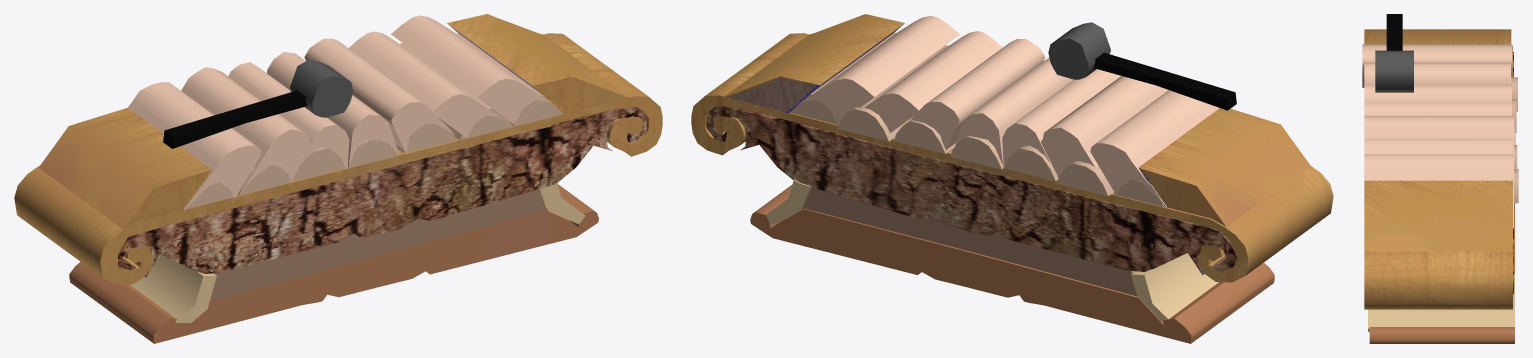
File: saron.glb
3 views of the same model, side by side, from view 1: azimuth 30°, elevation 25°; view 2: azimuth 150°, elevation 25°; view 3: azimuth 270°, elevation 25° (orthographic). The views are drawn at different scales.
Visible parts, largest first — view 1: root_Material_242_0, root_Material_260_0, root_Material_240_0, root_Material_246_0, root_Material_258_0, root_Material_244_0, root_Material_180_0 (×7), root_Material_262_0 (×2), root_Material_248_0, root_Material_264_0, root_Material_250_0, root_Material_256_0 (+5 smaller); view 2: root_Material_242_0, root_Material_260_0, root_Material_240_0, root_Material_246_0, root_Material_180_0 (×7), root_Material_258_0, root_Material_262_0 (×2), root_Material_244_0, root_Material_248_0, root_Material_264_0, root_Material_256_0, root_Material_252_0 (+5 smaller); view 3: root_Material_244_0, root_Material_240_0, root_Material_262_0 (×2), root_Material_248_0, root_Material_252_0, root_Material_122_0, root_Material_260_0, root_Material_250_0, root_Material_264_0, root_Material_256_0, root_Material_246_0, root_Material_254_0 (+2 smaller).
Boxes of the visible parts, x1,y1,x2,y2 form: root_Material_242_0: (118, 107, 646, 277); root_Material_260_0: (69, 184, 598, 343); root_Material_240_0: (14, 33, 662, 284); root_Material_246_0: (39, 108, 211, 229); root_Material_258_0: (209, 189, 546, 301); root_Material_244_0: (447, 14, 629, 113); root_Material_180_0 (×7): (186, 33, 563, 209); root_Material_262_0 (×2): (228, 52, 399, 169); root_Material_248_0: (391, 15, 564, 124); root_Material_264_0: (127, 82, 261, 209); root_Material_250_0: (349, 31, 514, 138); root_Material_256_0: (181, 67, 310, 192); root_Material_242_0: (706, 106, 1237, 275); root_Material_260_0: (750, 185, 1274, 343); root_Material_240_0: (691, 33, 1333, 282); root_Material_246_0: (1138, 108, 1310, 226); root_Material_180_0 (×7): (790, 32, 1164, 206); root_Material_258_0: (804, 187, 1136, 296); root_Material_262_0 (×2): (955, 57, 1120, 166); root_Material_244_0: (724, 14, 904, 113); root_Material_248_0: (785, 16, 959, 123); root_Material_264_0: (1090, 90, 1219, 207); root_Material_256_0: (1041, 76, 1168, 177); root_Material_252_0: (908, 39, 1045, 149); root_Material_244_0: (1364, 180, 1512, 251); root_Material_240_0: (1364, 46, 1512, 309); root_Material_262_0 (×2): (1364, 84, 1511, 116); root_Material_248_0: (1364, 154, 1513, 228); root_Material_252_0: (1364, 116, 1514, 155); root_Material_122_0: (1368, 273, 1514, 331); root_Material_260_0: (1369, 203, 1514, 343); root_Material_250_0: (1364, 138, 1512, 154); root_Material_264_0: (1362, 44, 1512, 87); root_Material_256_0: (1364, 63, 1511, 84); root_Material_246_0: (1364, 29, 1511, 44); root_Material_254_0: (1375, 50, 1413, 92).
Bounding box in the file's own units: 1.33 × 0.4992 × 0.3692.
24 materials, 14 textured.
